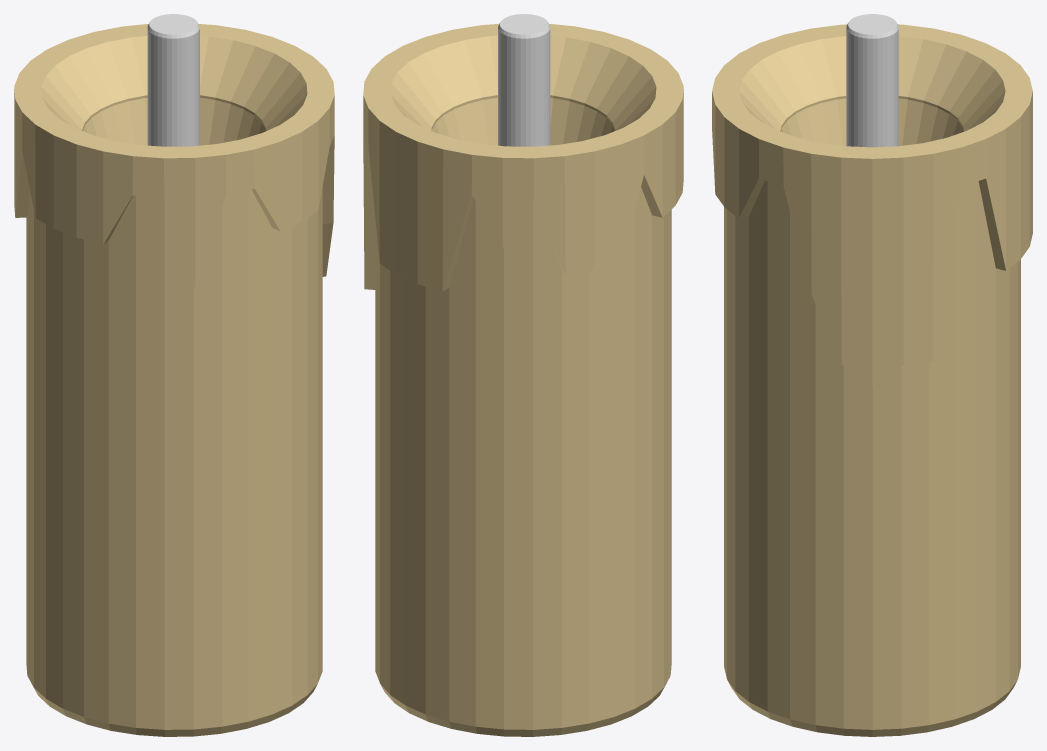
The model's file is Candle.glb.
3 renders of one model, left to right at view 1: azimuth 30°, elevation 25°; view 2: azimuth 150°, elevation 25°; view 3: azimuth 270°, elevation 25°, orthographic.
Parts seen in each view (by area): view 1: Cylinder, Cylinder.001; view 2: Cylinder, Cylinder.001; view 3: Cylinder, Cylinder.001.
Boxes of the visible parts, <box> form: Cylinder: <box>14,24,334,736</box>; Cylinder.001: <box>147,14,199,146</box>; Cylinder: <box>363,24,683,736</box>; Cylinder.001: <box>498,14,550,146</box>; Cylinder: <box>712,24,1032,736</box>; Cylinder.001: <box>846,14,898,147</box>.
Bounding box in the file's own units: 2.16 × 4.85 × 2.16.
